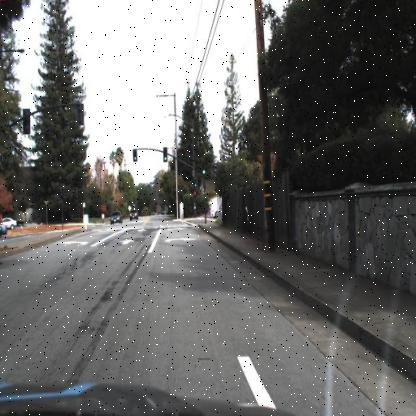car: (0, 215, 20, 233), (209, 202, 225, 220), (108, 209, 124, 226), (109, 209, 123, 227), (127, 204, 140, 223), (0, 219, 10, 242)
trafficLight-Green: (198, 159, 207, 179), (160, 144, 168, 166), (132, 146, 140, 164), (200, 158, 208, 176)
